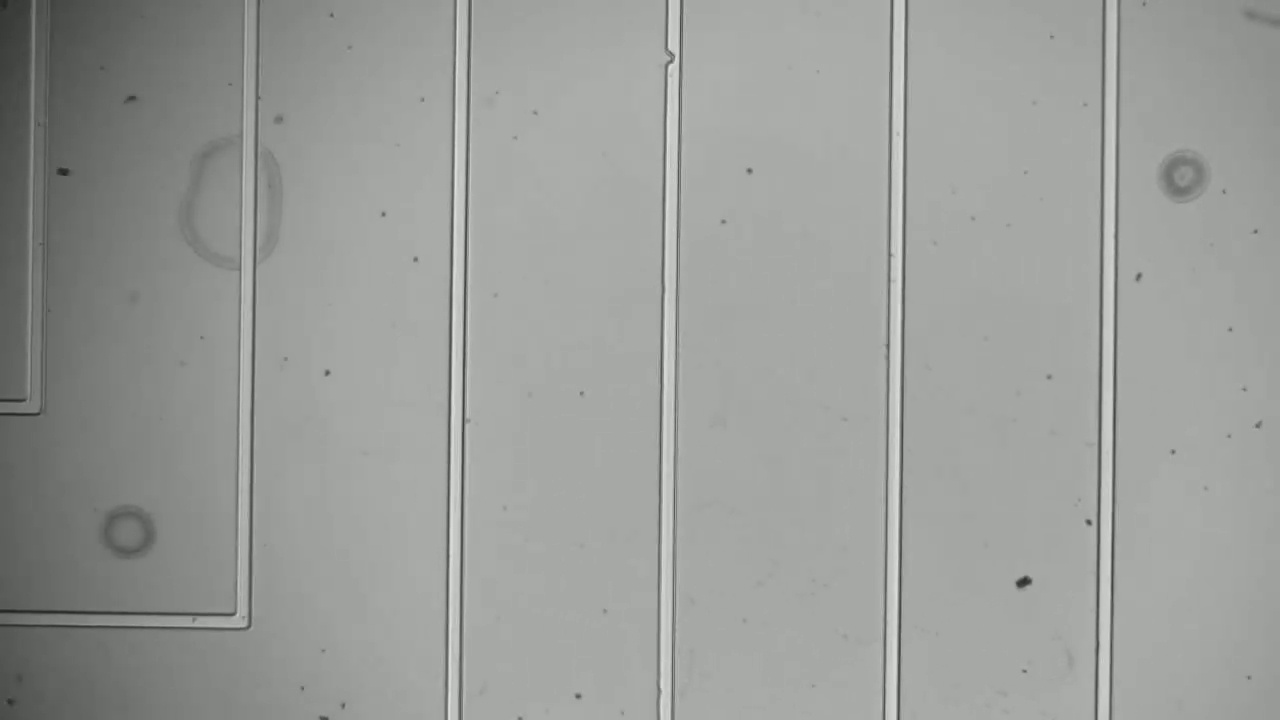edge_bite: (656, 43, 692, 68)
